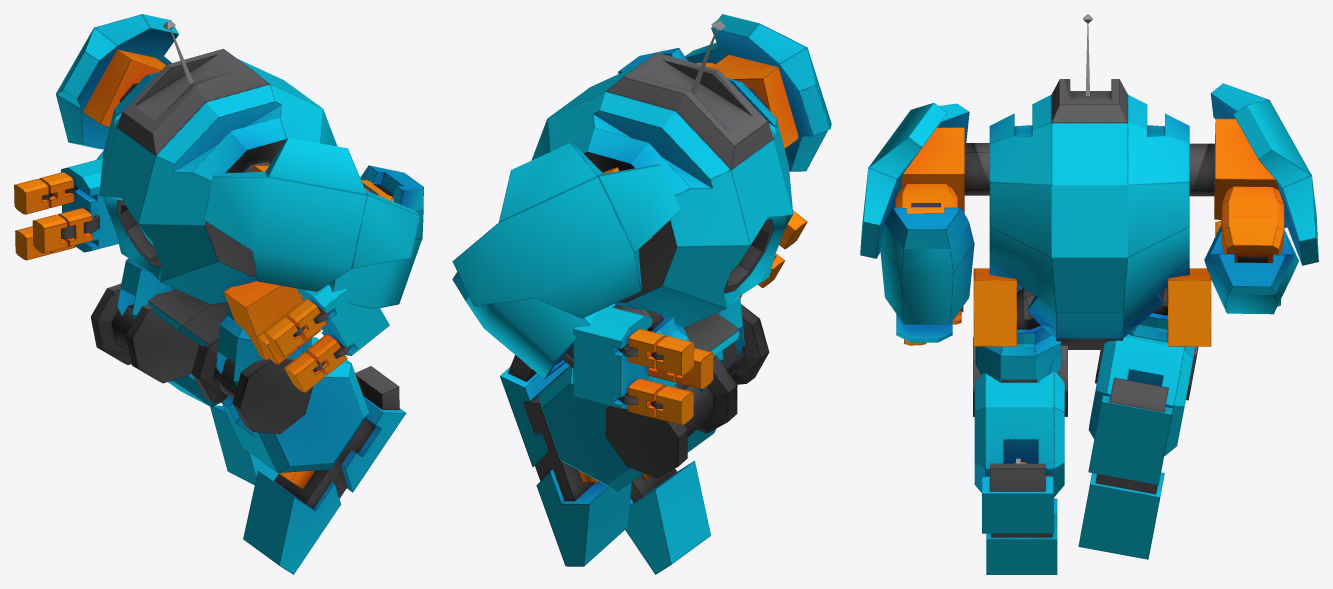
Rendered from Walk26.obj.
3 renders of one model, left to right at view 1: azimuth 30°, elevation 25°; view 2: azimuth 150°, elevation 25°; view 3: azimuth 270°, elevation 25°, orthographic. The views are drawn at different scales.
Visible parts, largest first — view 1: Plane001, Object006, Object013, Object014, Object002, Object008, Object004, Object010, Object007, Object012, Object011, Object009; view 2: Plane001, Object002, Object010, Object004, Object011, Object006, Object014, Object003, Object013, Object009, Object008, Object012; view 3: Plane001, Object002, Object011, Object006, Object007, Object013, Object014, Object010, Object003, Object012, Object001, Object005 (+2 smaller).
Part boxes in pixels (left/top/right/bottom): Plane001: left=99, top=49, right=337, bottom=360; Object006: left=204, top=138, right=419, bottom=291; Object013: left=191, top=337, right=369, bottom=472; Object014: left=243, top=366, right=406, bottom=574; Object002: left=56, top=14, right=178, bottom=149; Object008: left=256, top=284, right=389, bottom=392; Object004: left=14, top=158, right=118, bottom=260; Object010: left=90, top=283, right=220, bottom=407; Object007: left=328, top=165, right=423, bottom=309; Object012: left=216, top=305, right=311, bottom=386; Object011: left=210, top=405, right=278, bottom=485; Object009: left=117, top=258, right=174, bottom=320; Plane001: left=531, top=52, right=793, bottom=355; Object002: left=452, top=142, right=681, bottom=318; Object010: left=537, top=355, right=737, bottom=491; Object004: left=562, top=307, right=713, bottom=425; Object011: left=500, top=355, right=631, bottom=566; Object006: left=685, top=14, right=831, bottom=171; Object014: left=568, top=366, right=710, bottom=574; Object003: left=452, top=272, right=615, bottom=378; Object013: left=687, top=304, right=769, bottom=452; Object009: left=614, top=305, right=703, bottom=393; Object008: left=758, top=210, right=807, bottom=287; Object012: left=716, top=296, right=744, bottom=362; Plane001: left=973, top=79, right=1211, bottom=349; Object002: left=1210, top=83, right=1318, bottom=265; Object011: left=1078, top=377, right=1172, bottom=559; Object006: left=860, top=103, right=969, bottom=258; Object007: left=880, top=203, right=974, bottom=324; Object013: left=973, top=337, right=1067, bottom=497; Object014: left=982, top=462, right=1057, bottom=574; Object010: left=1088, top=334, right=1198, bottom=455; Object003: left=1204, top=225, right=1298, bottom=314; Object012: left=975, top=287, right=1061, bottom=382; Object001: left=1189, top=143, right=1215, bottom=196; Object005: left=964, top=143, right=989, bottom=195.
Bounding box in the file's own units: 110 × 230 × 182.
